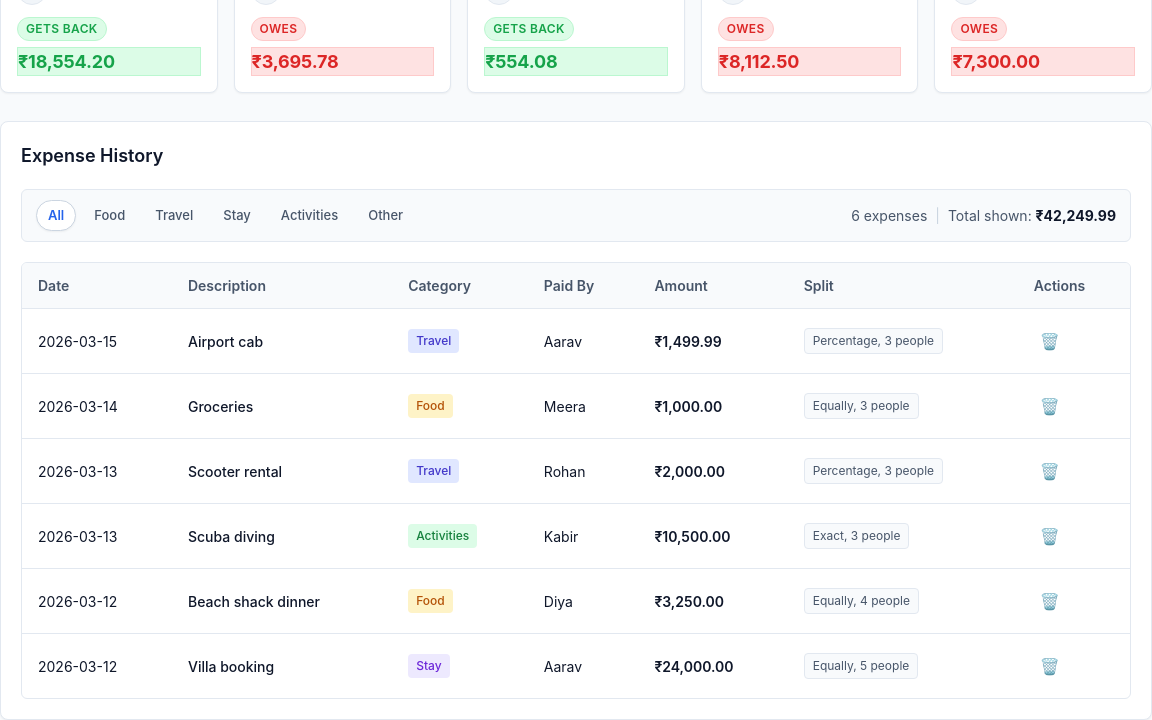
Scenario: ExpensesPage Integration › opens confirmation modal and cancels deletion without modifying expenses
(page scrolled)
Step 1. Click the button named "delete expense: villa booking" → (1050, 666), box [1034, 648, 1066, 684]
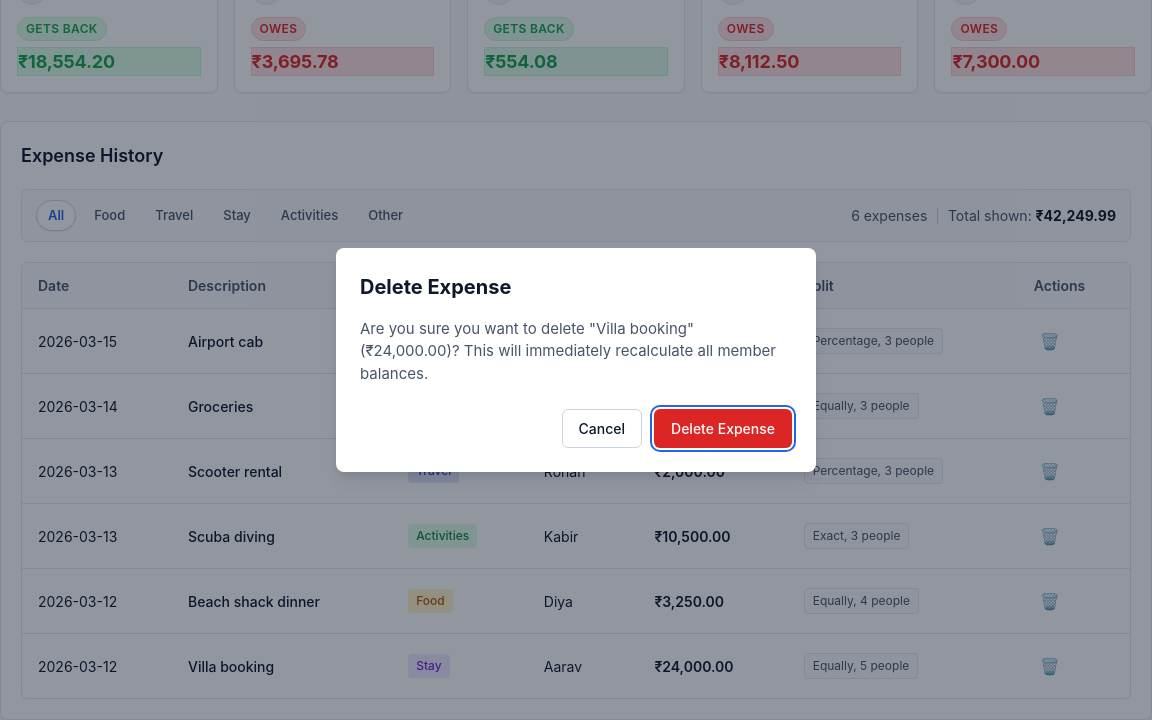
Check: the dialog is shown, box [336, 248, 816, 472]
Check: the text "Are you sure you want to delete \"Villa booking\"" is shown, box [360, 319, 776, 383]
# Click Cancel
Step 2. Click the button "Cancel" → (602, 429), box [562, 409, 642, 448]
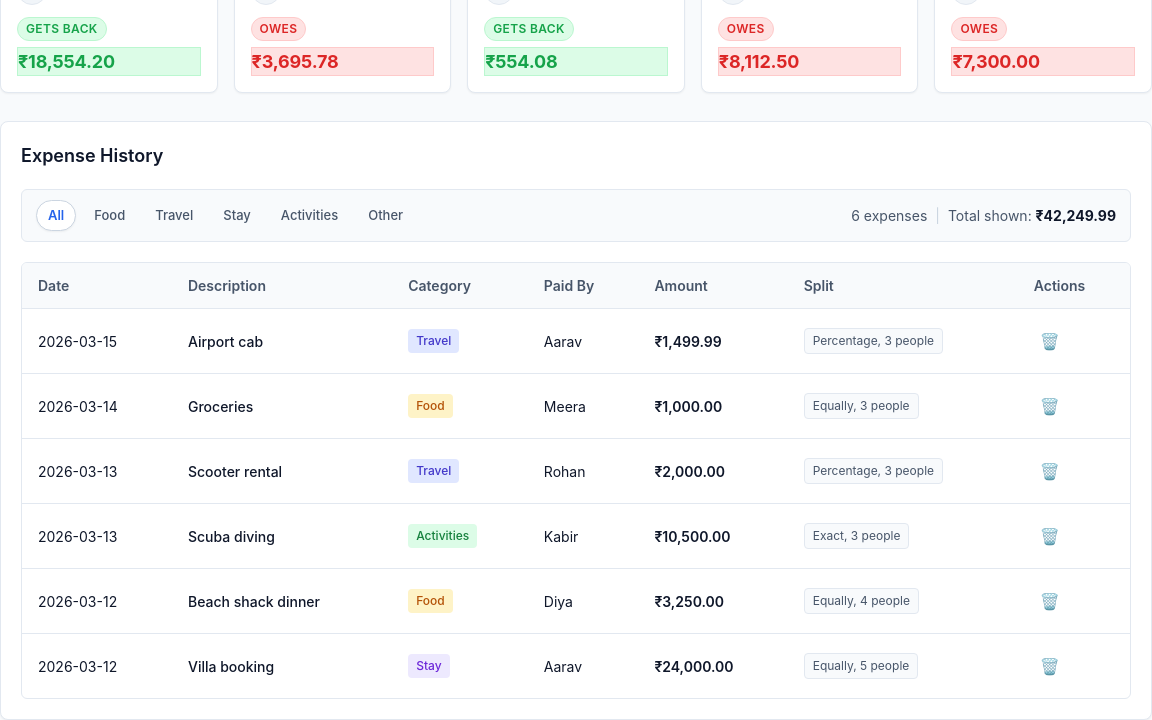
Check: the text "Villa booking" is shown, box [188, 658, 274, 674]
Check: the dialog is gone
